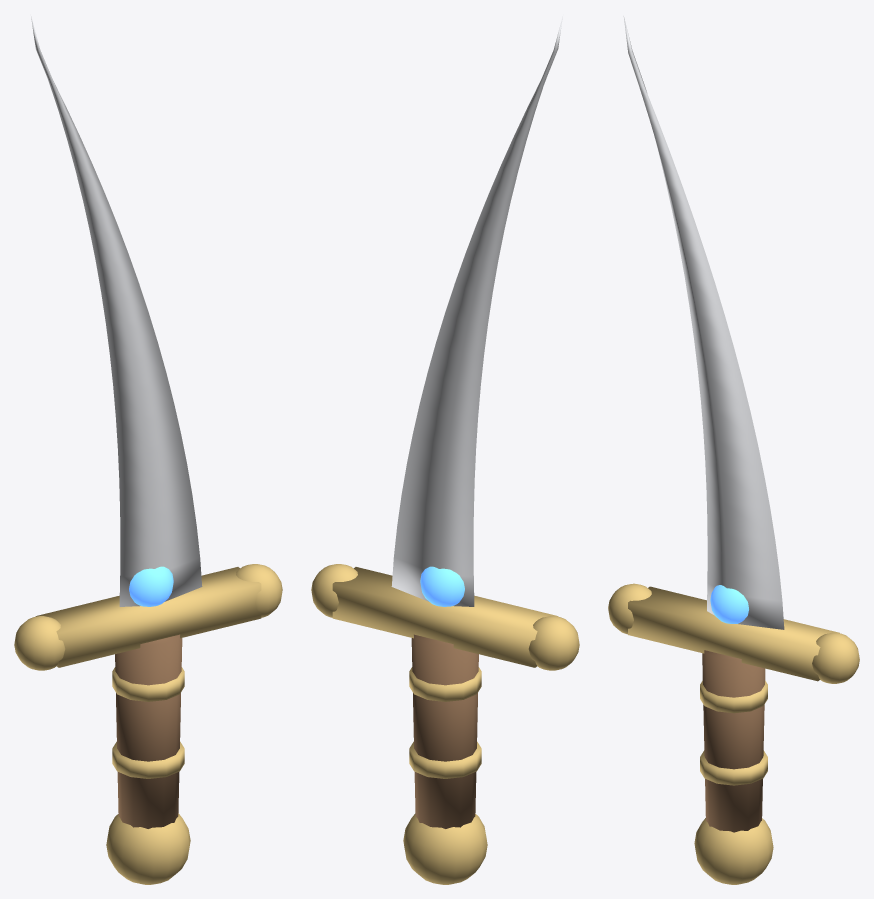
Rendered from rogue_dagger.glb.
The picture shows the model from 3 angles, left to right: view 1: azimuth 30°, elevation 25°; view 2: azimuth 150°, elevation 25°; view 3: azimuth 330°, elevation 25°; orthographic projection. The views are drawn at different scales.
Parts seen in each view (by area): view 1: WEAPON_Dagger; view 2: WEAPON_Dagger; view 3: WEAPON_Dagger.
Part boxes in pixels (x1,y1,x2,y2): WEAPON_Dagger: (14, 16, 282, 884); WEAPON_Dagger: (311, 16, 579, 884); WEAPON_Dagger: (608, 16, 859, 884).
Bounding box in the file's own units: 0.142 × 0.465 × 0.04.
